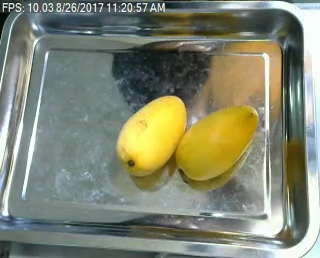Mango: (177, 105, 259, 178), (115, 96, 187, 176)
